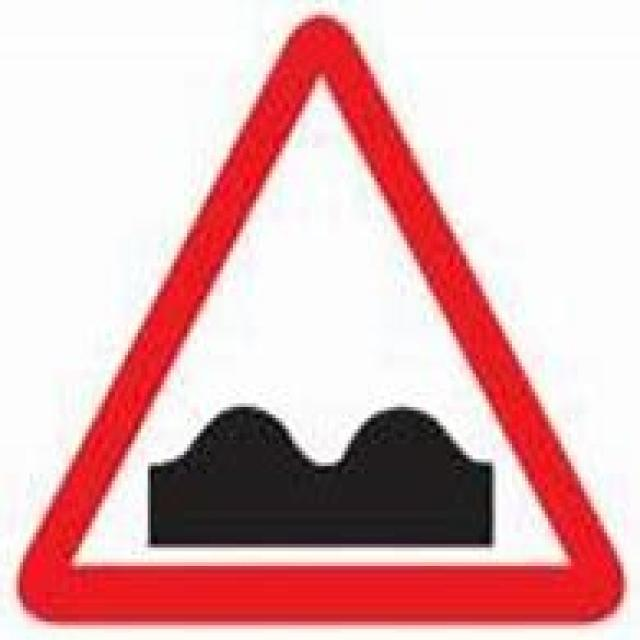hump or rough road: (22, 19, 615, 617)
